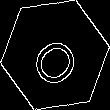O_NE: (24, 22, 86, 88)
